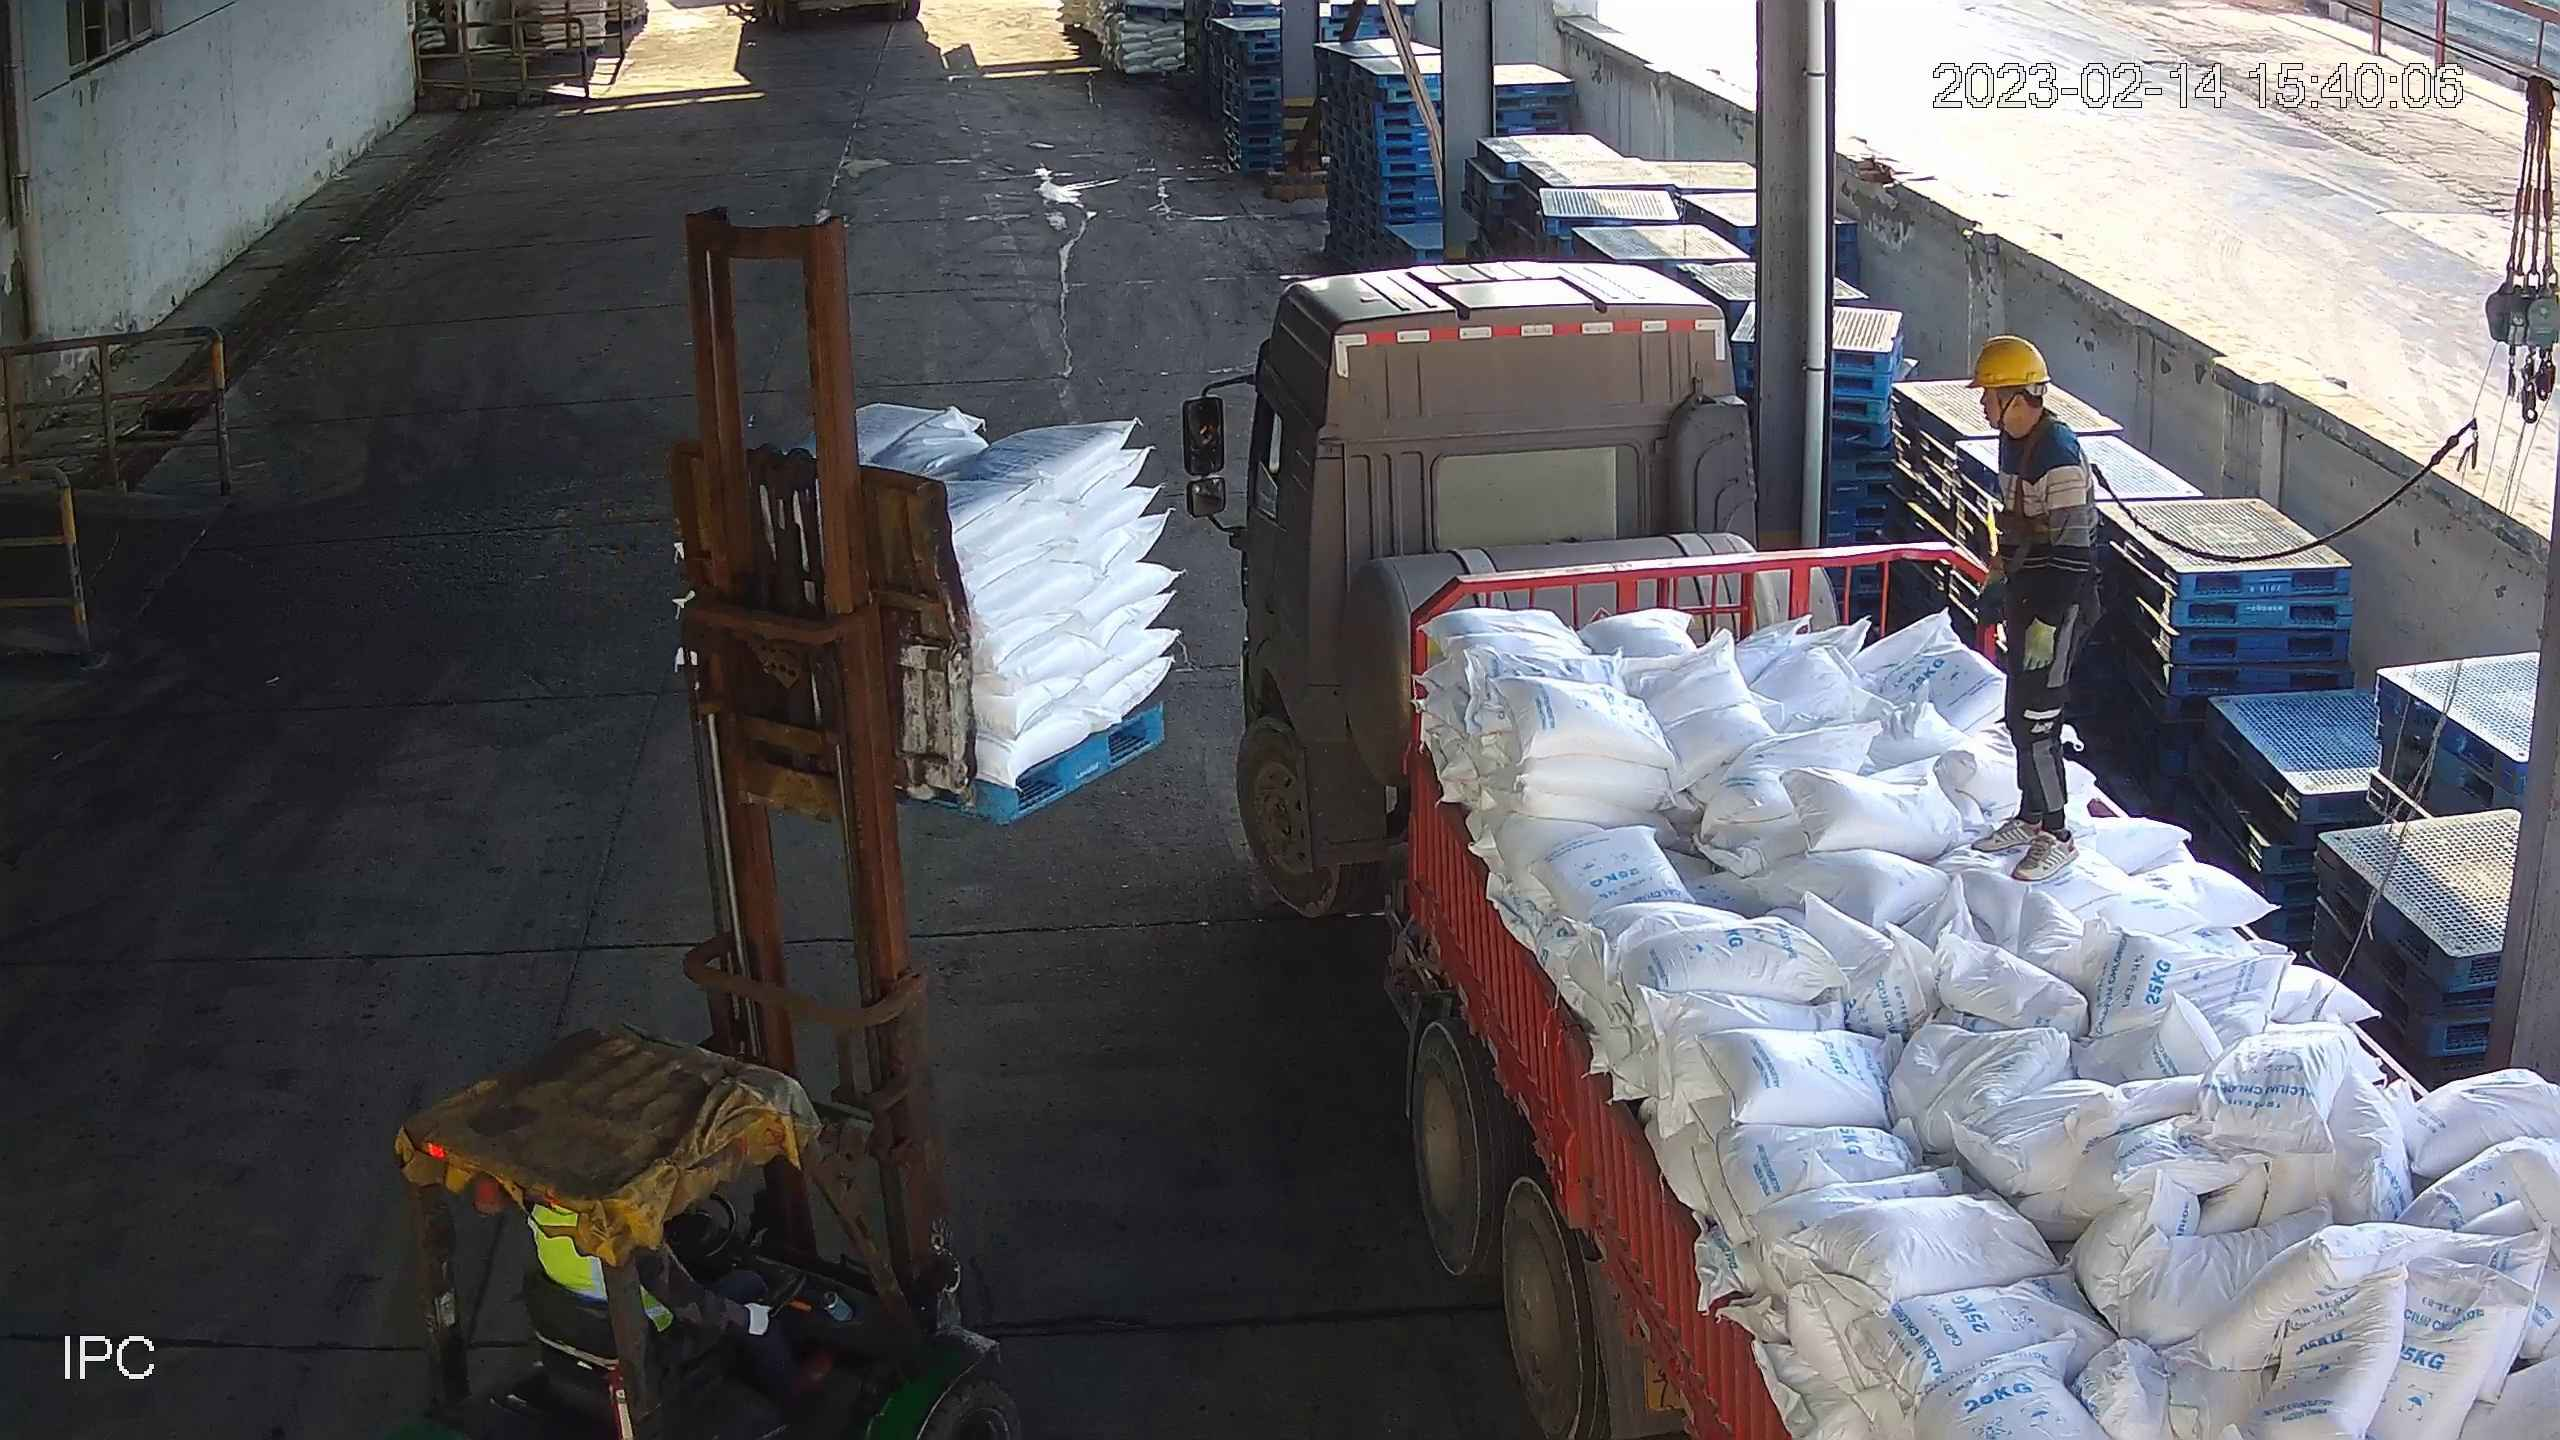belt: (1992, 449, 2076, 554)
head: (1967, 330, 2090, 471)
helmet: (1965, 332, 2051, 388)
people: (1955, 332, 2111, 883)
truck: (1181, 251, 2560, 1440)
